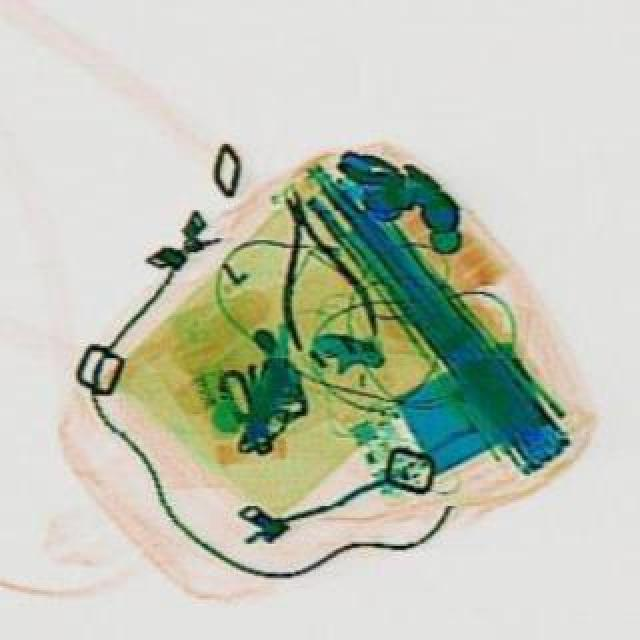wrench: (242, 182, 374, 358)
